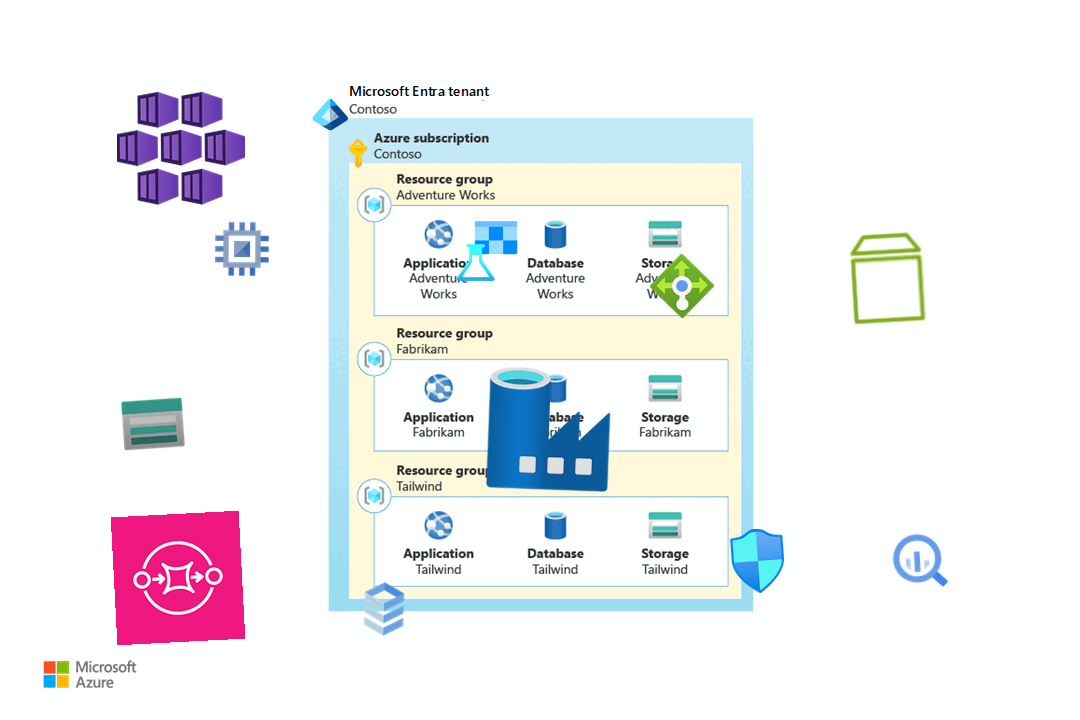aws_amazon_simple_queue_service: (110, 510, 246, 646)
aws_elastic_block_store_volume: (837, 227, 939, 329)
azure_data_factories: (482, 362, 616, 496)
azure_kubernetes_services: (116, 82, 246, 212)
azure_load_balancers: (649, 253, 715, 319)
azure_machine_learning_studio_workspaces: (454, 218, 520, 284)
azure_network_security_groups: (723, 526, 793, 596)
azure_storage_accounts: (118, 389, 188, 459)
gcp_bigquery: (886, 527, 954, 595)
gcp_cloud_sql: (350, 575, 418, 643)
gcp_compute_engine: (209, 216, 275, 282)
